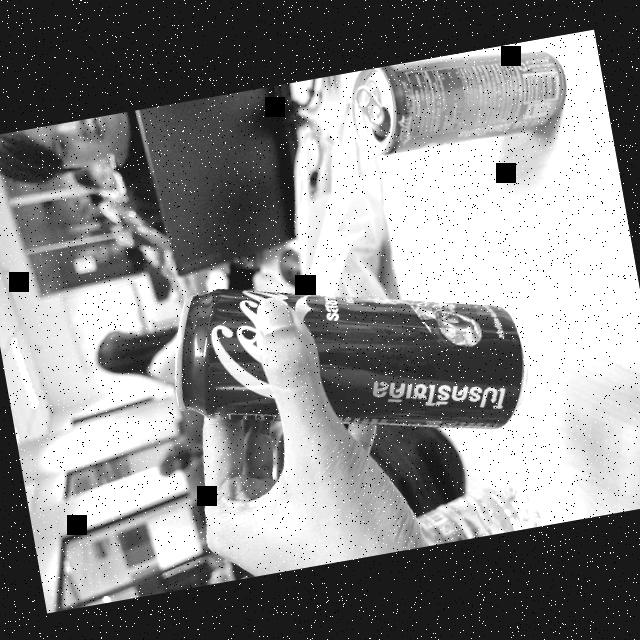can: (144, 230, 542, 477), (332, 40, 575, 169)
